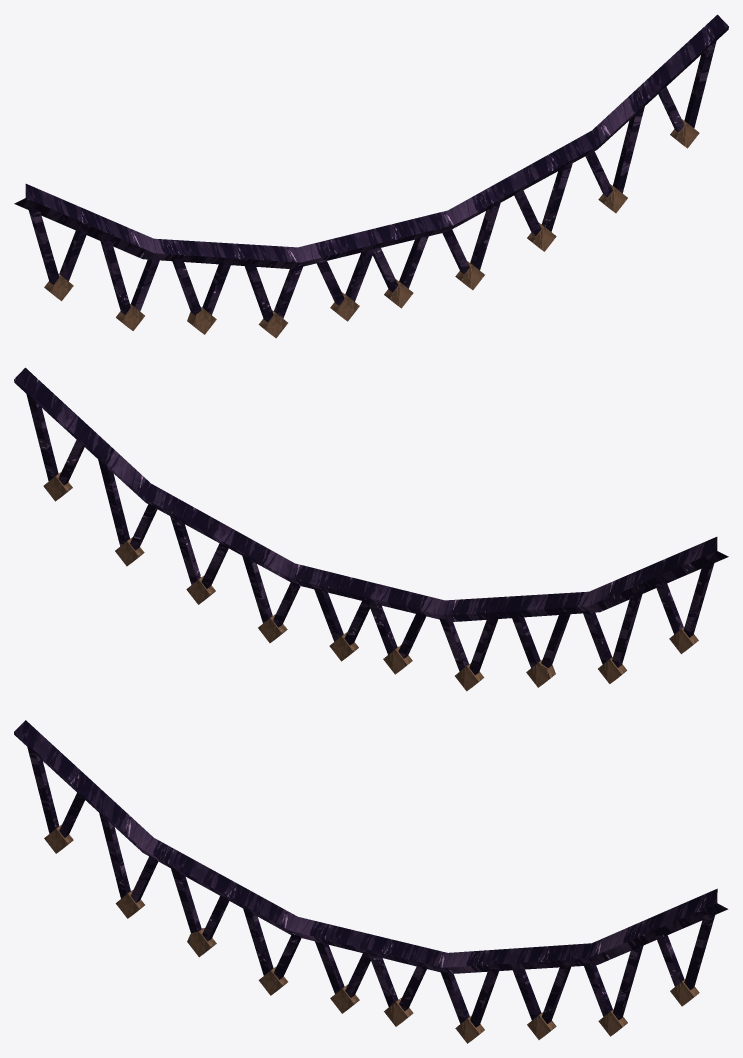
The model's file is pm-fence-01.glb.
3 views of the same model, one above another, from view 1: azimuth 30°, elevation 25°; view 2: azimuth 150°, elevation 25°; view 3: azimuth 330°, elevation 25° (orthographic).
Visible parts, largest first — view 1: Fence_01_Art; view 2: Fence_01_Art; view 3: Fence_01_Art.
Boxes of the visible parts, x1,y1,x2,y2 form: Fence_01_Art: (14,14,728,338); Fence_01_Art: (14,367,728,691); Fence_01_Art: (14,720,728,1043).
Size of what is drawn, in the model's own units: 2.45 by 0.701 by 0.0696.
Materials: 2 (2 with a texture image).
